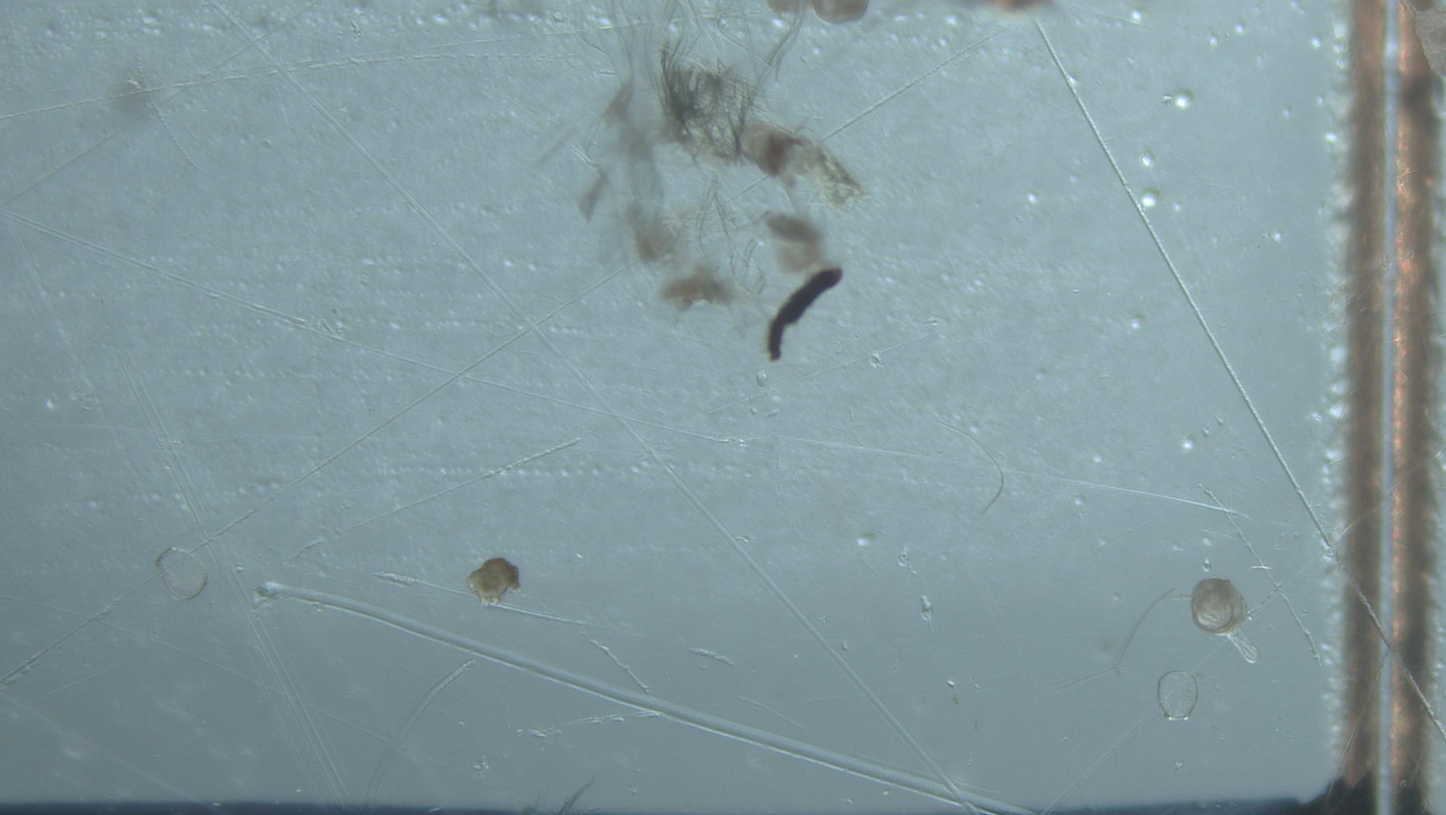dead: (155, 548, 207, 601), (1158, 671, 1199, 720)
live: (1191, 578, 1248, 635)
